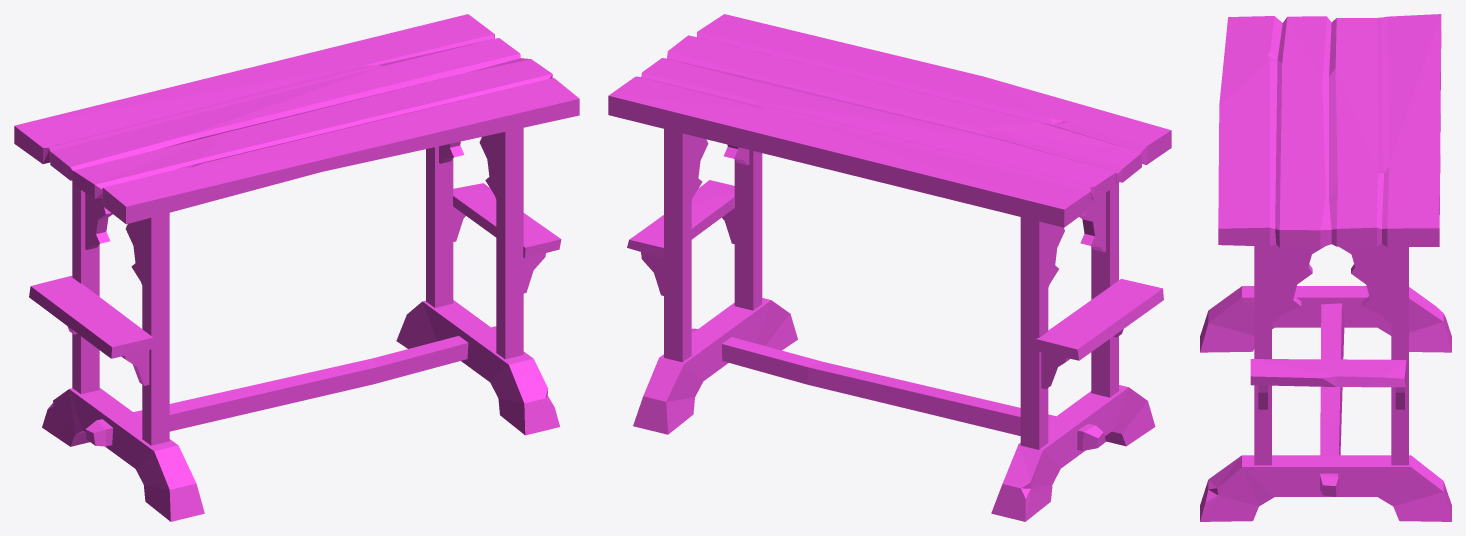
Rendered from SM_Desk_Writing_A_Fantasy.fbx.
The picture shows the model from 3 angles, left to right: view 1: azimuth 30°, elevation 25°; view 2: azimuth 150°, elevation 25°; view 3: azimuth 270°, elevation 25°; orthographic projection. The views are drawn at different scales.
Parts seen in each view (by area): view 1: SM_Desk_Writing_A_Fantasy; view 2: SM_Desk_Writing_A_Fantasy; view 3: SM_Desk_Writing_A_Fantasy.
Part boxes in pixels (x1=…): SM_Desk_Writing_A_Fantasy: x1=14, y1=14, x2=579, y2=521; SM_Desk_Writing_A_Fantasy: x1=608, y1=14, x2=1171, y2=521; SM_Desk_Writing_A_Fantasy: x1=1200, y1=14, x2=1451, y2=521.
Size of the model in its own units: 1.21 by 0.8 by 0.5915.
